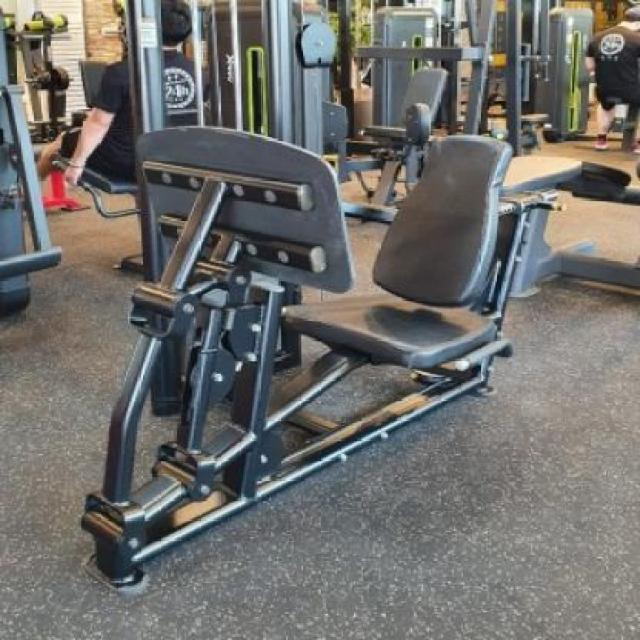leg press: (37, 80, 571, 595)
